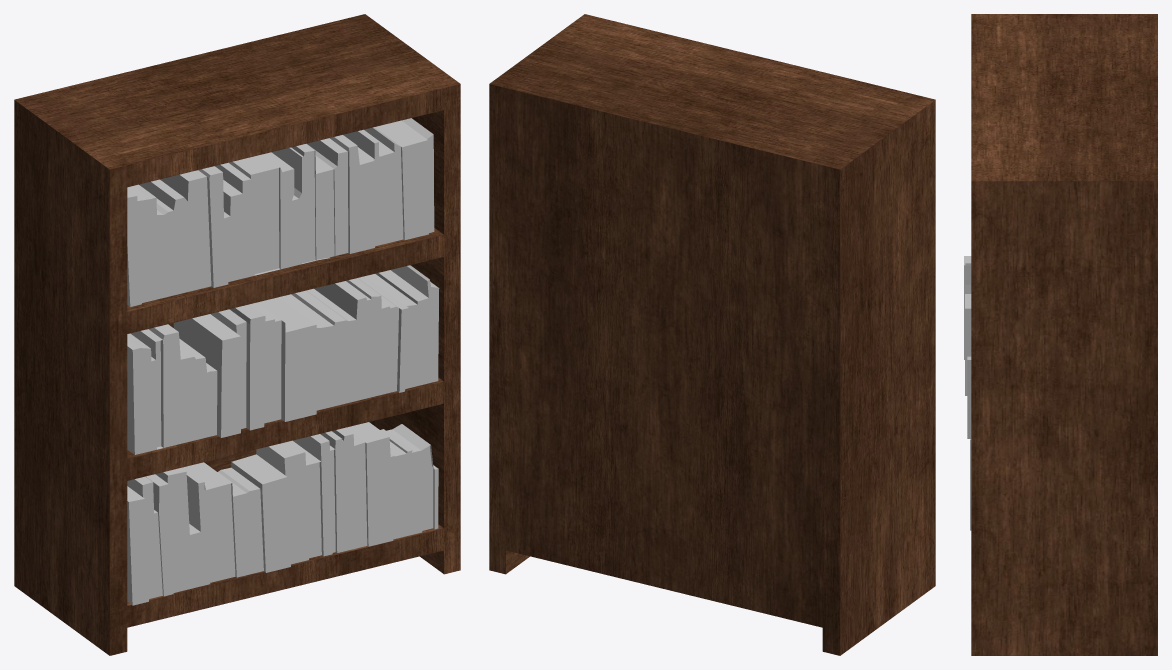
The picture shows the model from 3 angles, left to right: view 1: azimuth 30°, elevation 25°; view 2: azimuth 150°, elevation 25°; view 3: azimuth 270°, elevation 25°; orthographic projection. The views are drawn at different scales.
Visible parts, largest first — view 1: Shelf, Row 2, Row 1, Row 3; view 2: Shelf; view 3: Shelf, Row 2.
Part boxes in pixels (x1,y1,x2,y2): Shelf: (14, 14, 460, 655); Row 2: (127, 265, 439, 454); Row 1: (127, 422, 438, 605); Row 3: (127, 118, 434, 306); Shelf: (489, 14, 935, 655); Shelf: (971, 14, 1157, 655); Row 2: (964, 256, 971, 438).
Size of the model in its own units: 1.8 by 2.38 by 0.8794.
